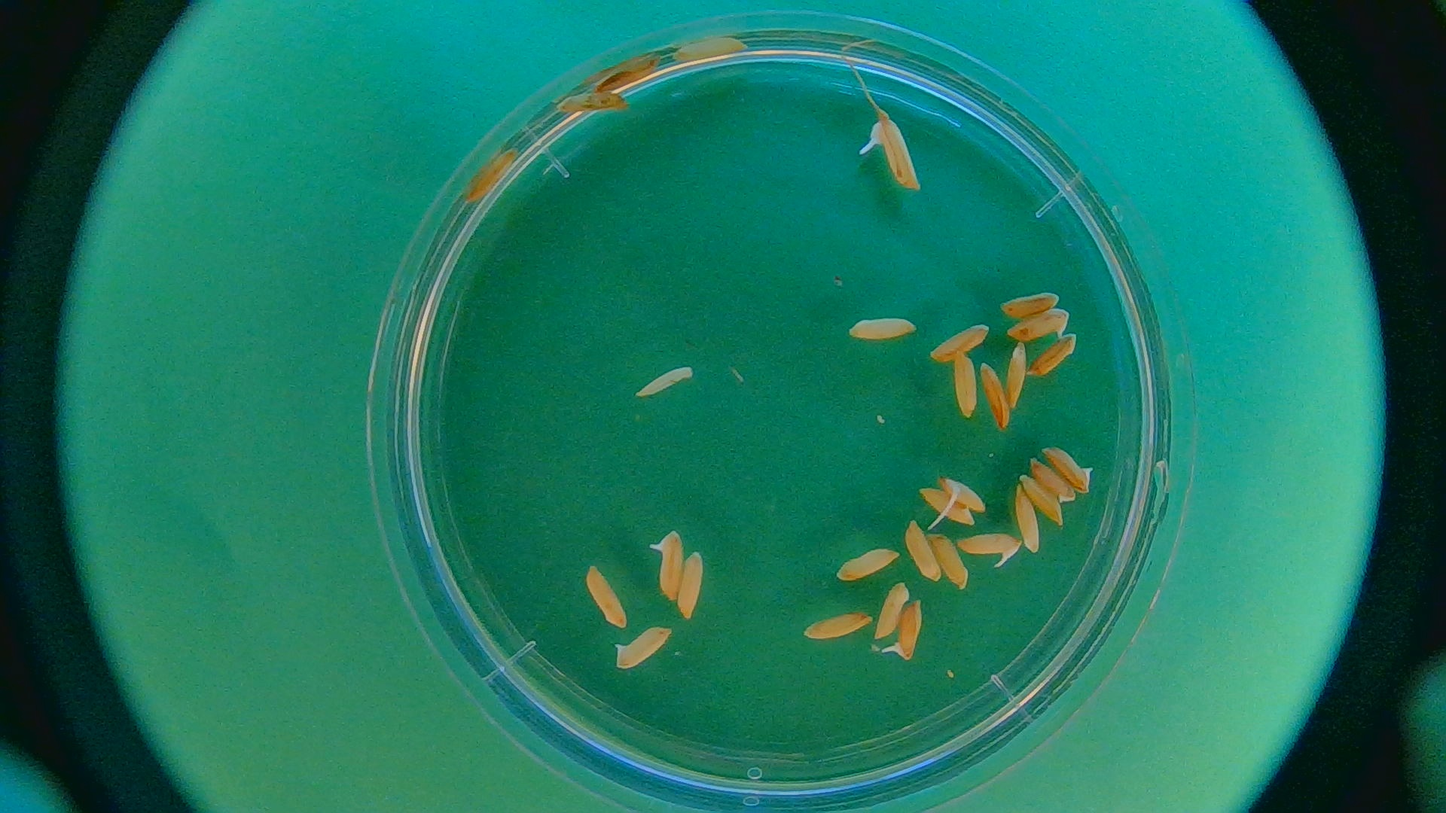no: (459, 141, 515, 206), (582, 55, 667, 96), (613, 618, 669, 672), (582, 559, 624, 630), (1040, 445, 1094, 500), (1014, 471, 1063, 528), (976, 357, 1015, 428), (899, 521, 944, 582), (1025, 457, 1078, 506), (927, 323, 990, 363), (795, 610, 871, 643), (927, 531, 969, 590), (1012, 485, 1045, 557), (1028, 333, 1083, 376), (913, 486, 974, 523), (666, 35, 755, 60), (834, 547, 899, 580), (874, 580, 909, 641), (845, 314, 918, 342), (1006, 309, 1070, 340), (551, 93, 630, 118), (950, 349, 978, 419), (1002, 340, 1030, 409), (676, 551, 703, 620), (1000, 292, 1060, 317)
yes: (871, 108, 924, 192), (953, 531, 1020, 568), (652, 529, 685, 598), (889, 596, 923, 659), (941, 478, 986, 513)
